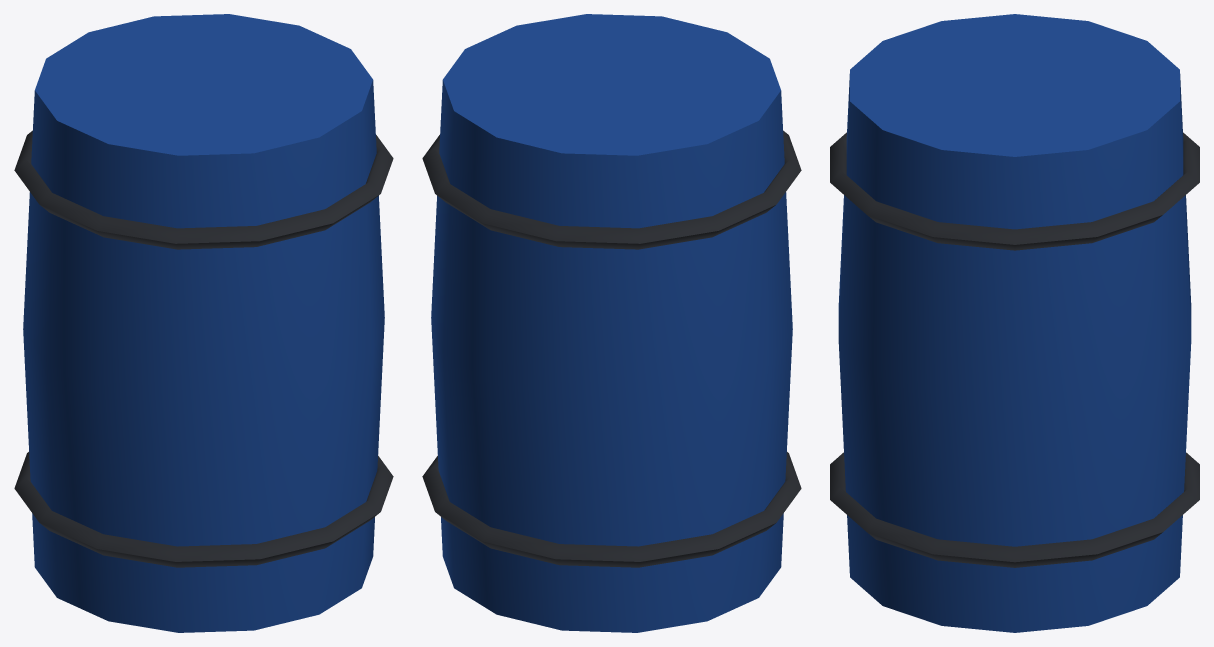
Rendered from SM_Barrel.fbx.
3 renders of one model, left to right at view 1: azimuth 30°, elevation 25°; view 2: azimuth 150°, elevation 25°; view 3: azimuth 270°, elevation 25°, orthographic.
Parts seen in each view (by area): view 1: SM_Barrel; view 2: SM_Barrel; view 3: SM_Barrel.
Part boxes in pixels (<box>): SM_Barrel: <box>14,14,393,632</box>; SM_Barrel: <box>422,14,801,632</box>; SM_Barrel: <box>830,14,1199,632</box>.
Size of what is drawn, in the model's own units: 0.65 by 0.9 by 0.6337.
